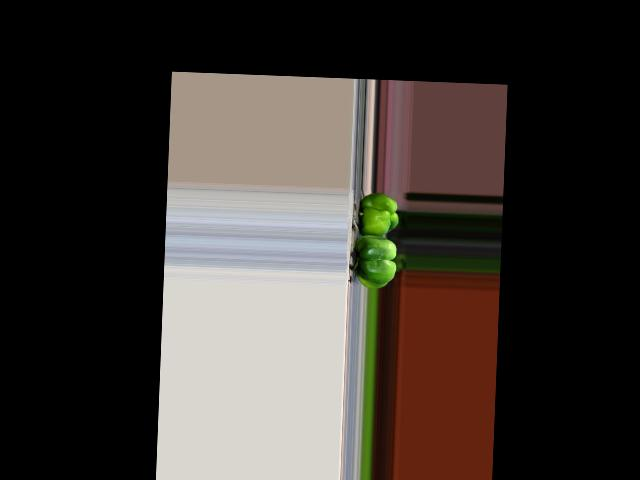bell_pepper: (355, 190, 401, 237)
